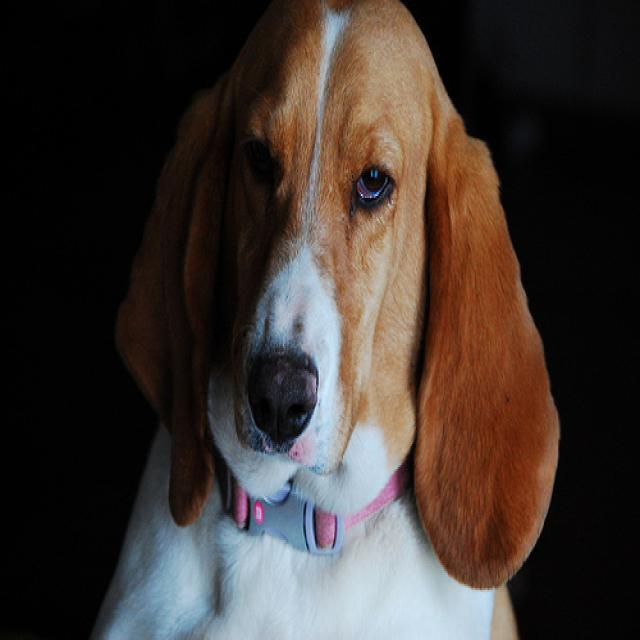dog-basset_hound: (86, 2, 561, 636)
